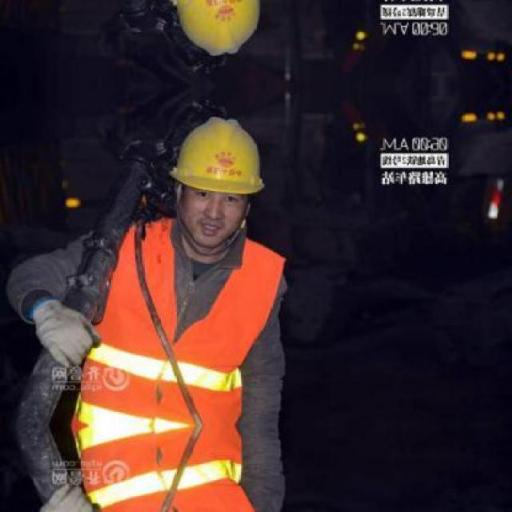helmet: (162, 112, 274, 204)
vest: (50, 222, 290, 426)
